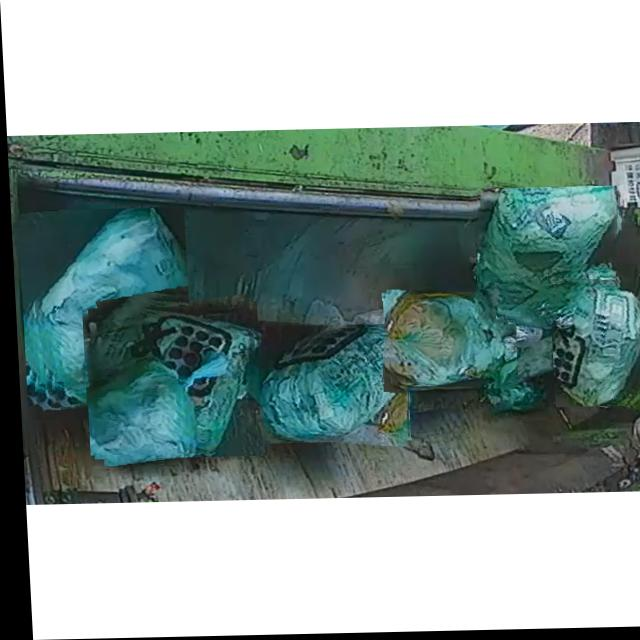general_trashbag: (32, 209, 185, 406), (82, 310, 250, 454), (474, 189, 617, 323), (243, 329, 405, 441), (383, 295, 512, 387), (549, 284, 640, 409)
